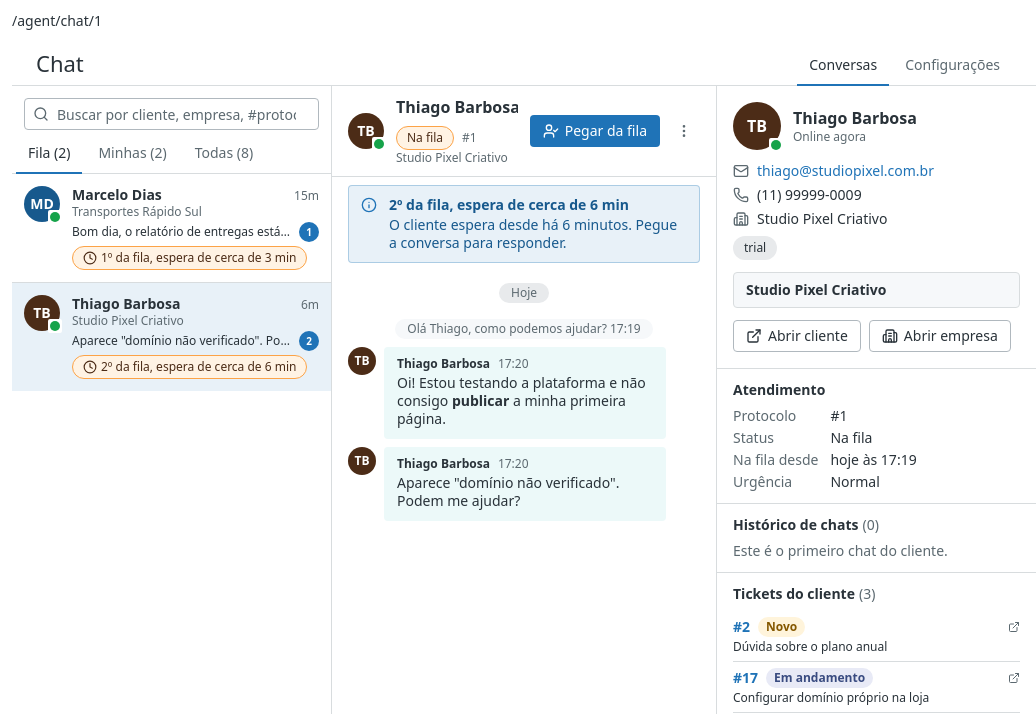
it: conversa › pegar da fila: o botão some, o compositor aparece e a lista passa para Minhas
Click the button "Pegar da fila" at (595, 131), box [530,115,660,147]
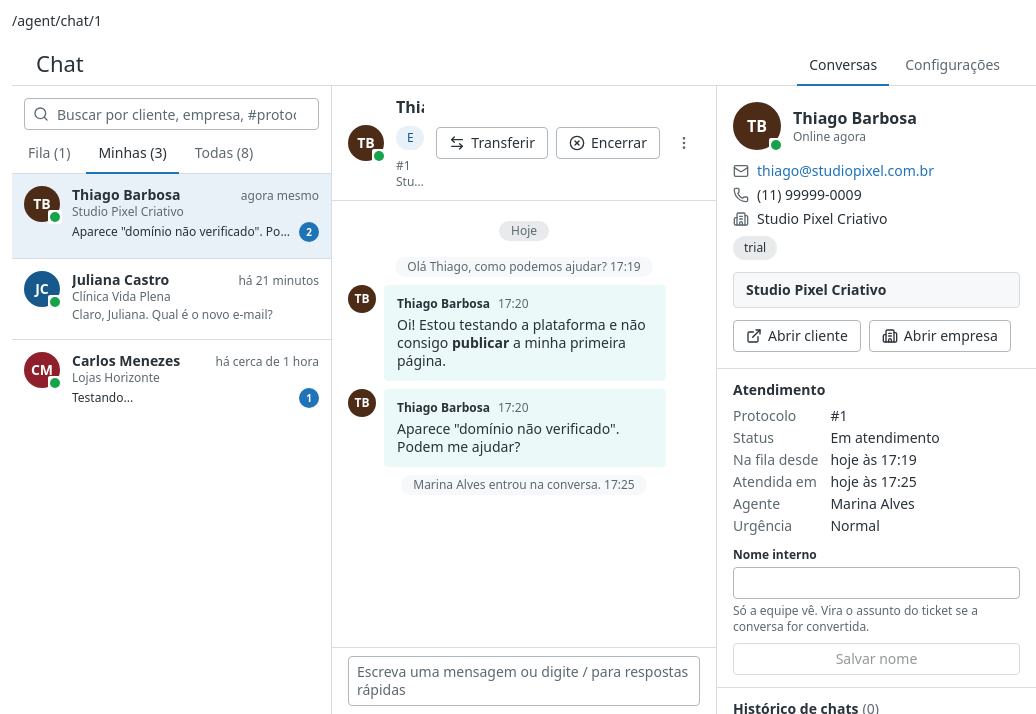
Expected: the text box named "Escrever mensagem ao cliente" is shown, [348,656,700,706]
Expected: the button "Pegar da fila" is gone
